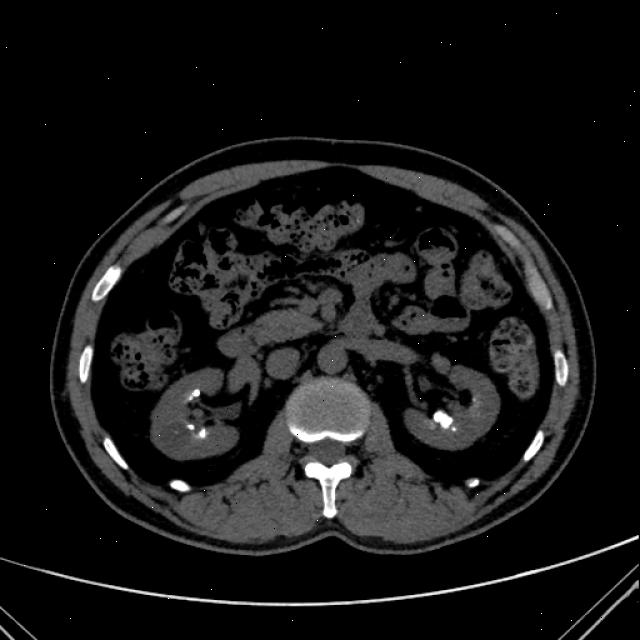kidneystone: (432, 410, 452, 429), (186, 389, 201, 401), (198, 429, 206, 438)
